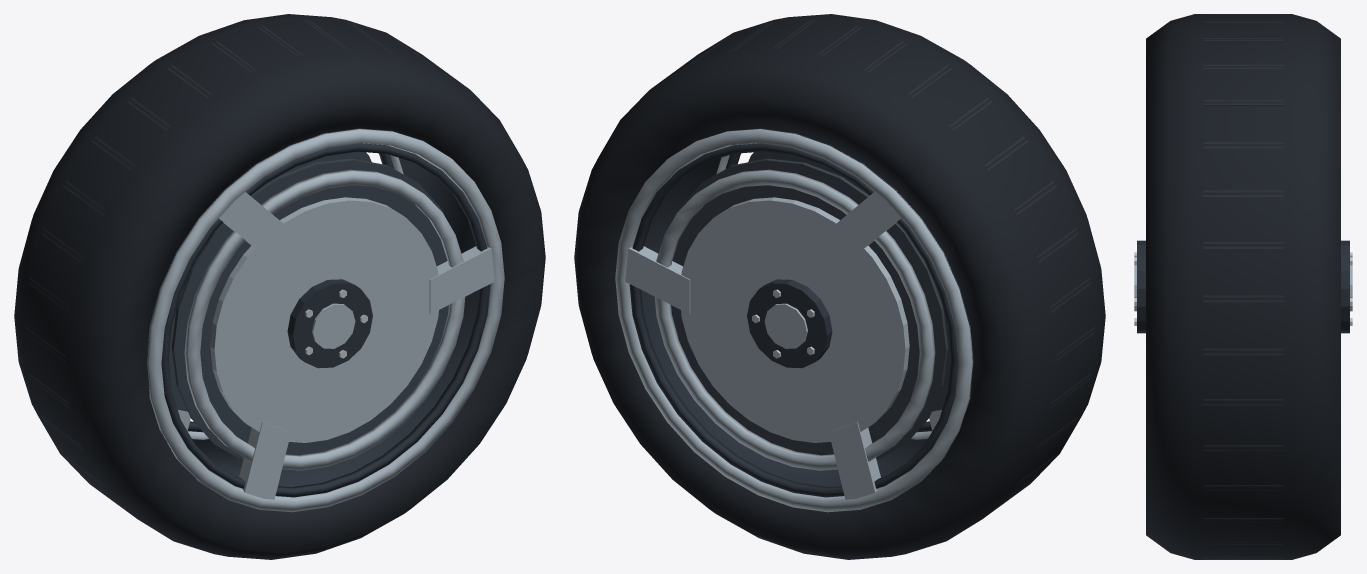
Rendered from orbital.glb.
3 renders of one model, left to right at view 1: azimuth 30°, elevation 25°; view 2: azimuth 150°, elevation 25°; view 3: azimuth 270°, elevation 25°, orthographic.
Visible parts, largest first — view 1: wheel; view 2: wheel; view 3: wheel.
Part boxes in pixels (x1,y1,x2,y2): wheel: (14, 14, 545, 559); wheel: (574, 14, 1105, 559); wheel: (1134, 14, 1352, 559).
Bounding box in the file's own units: 2 × 2 × 0.8.
